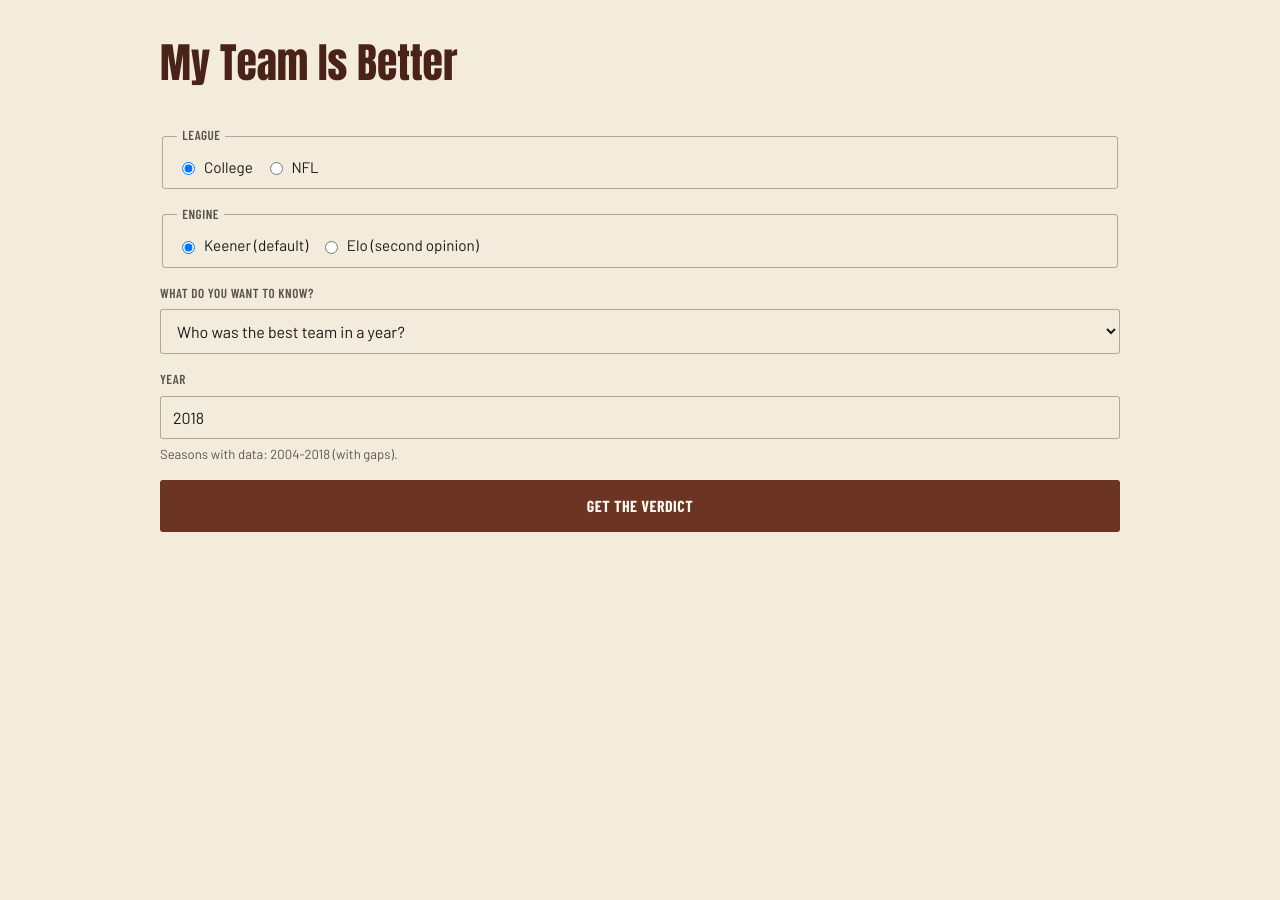
HomePage › share links (issue #184) › keeps the address bar on the share link of the question just asked, replacing history rather than pushing
The width and height of the screenshot is (1280, 900).
Type "2005" into the number field labelled "Year".
click(640, 417); type("2005")  # box [160,396,1120,439]
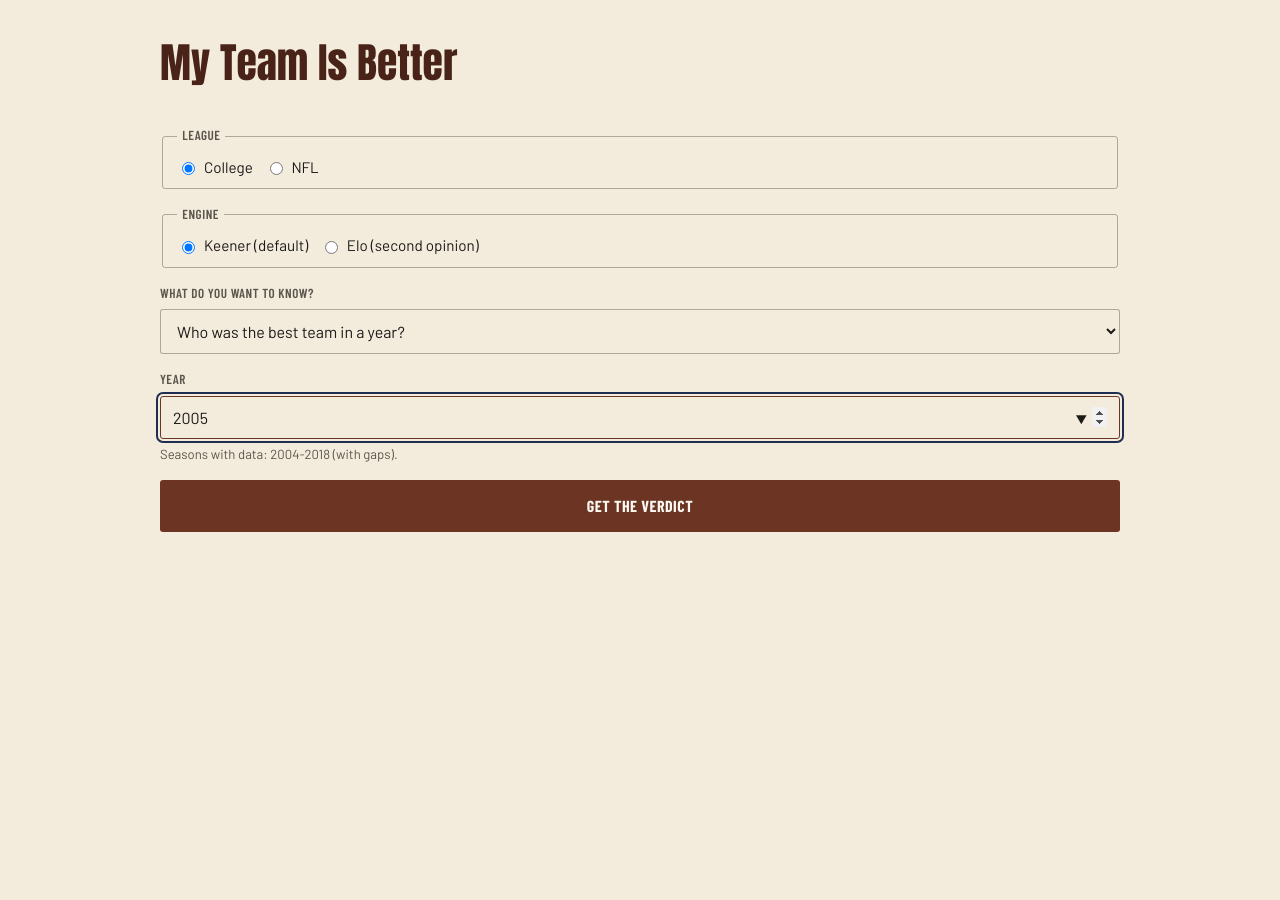
Click the button "Get the verdict".
click(640, 506)  # box [160,480,1120,532]
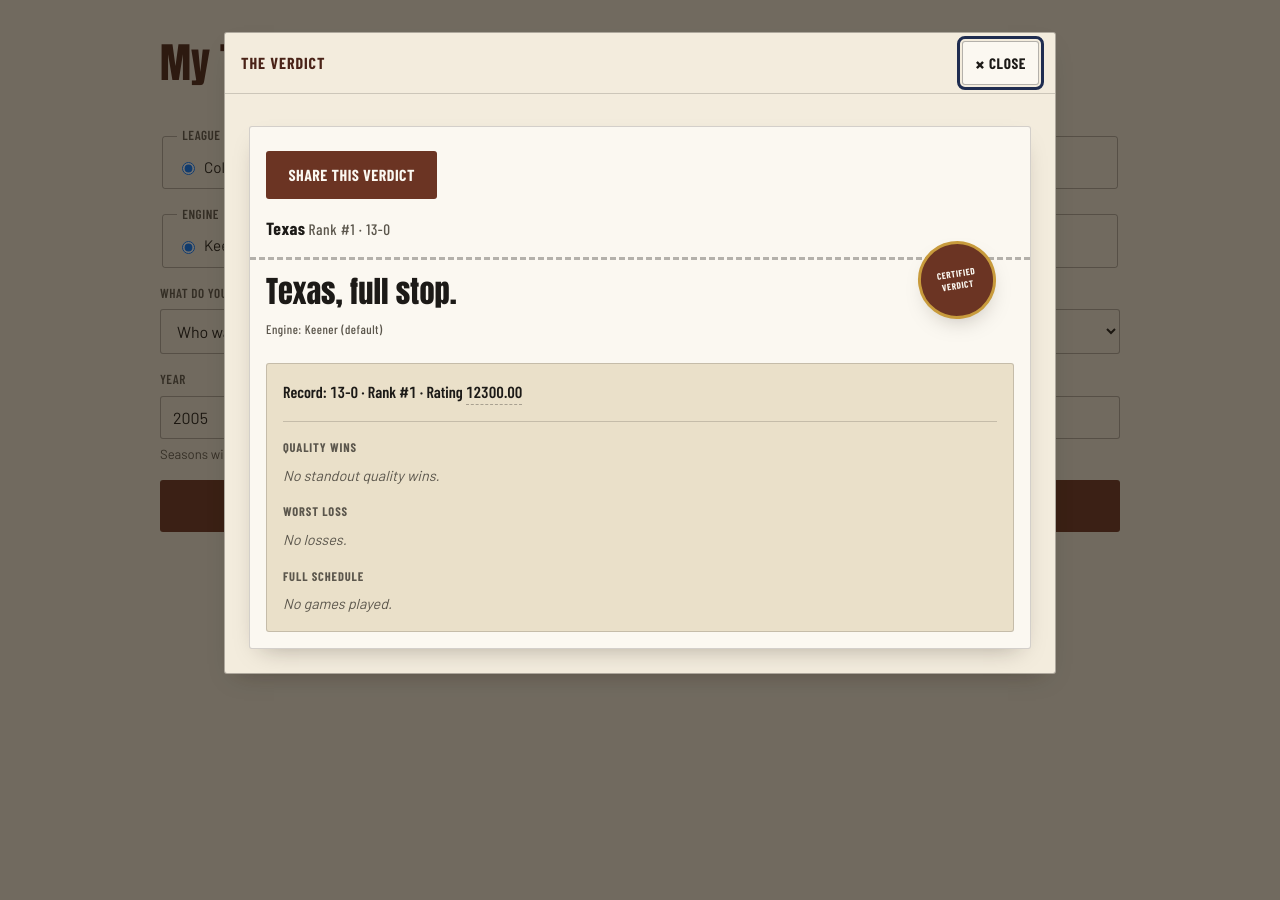
Expected: the text "Texas, full stop." is shown, [266,268,457,314]
